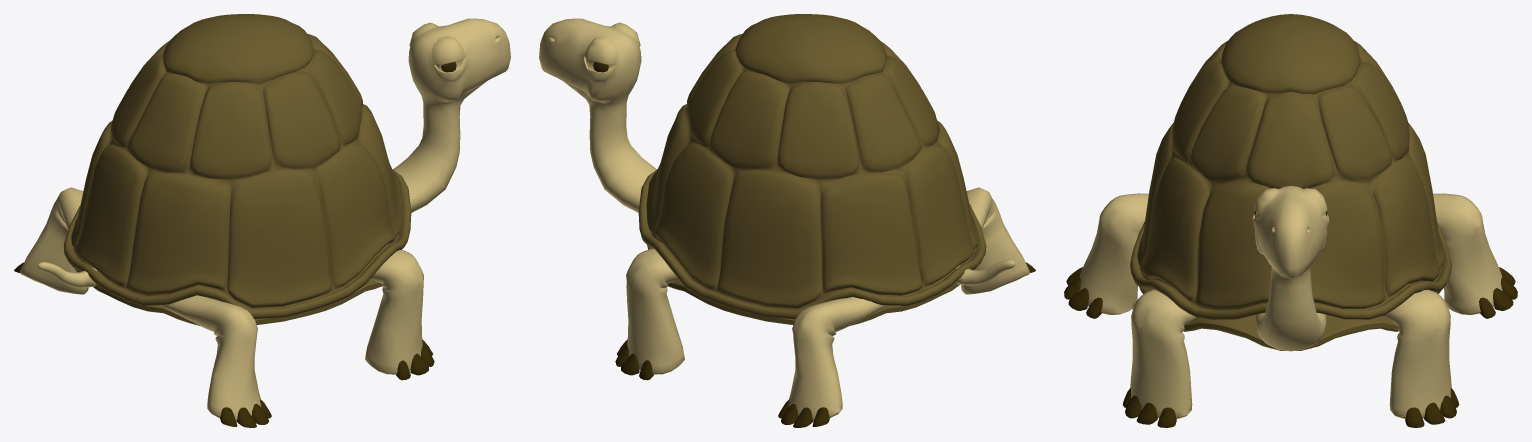
Rendered from tortuga.obj.
3 renders of one model, left to right at view 1: azimuth 30°, elevation 25°; view 2: azimuth 150°, elevation 25°; view 3: azimuth 270°, elevation 25°, orthographic. The views are drawn at different scales.
Parts seen in each view (by area): view 1: Mesh1 Group1 Model, Mesh4 Group1 Model, Mesh6 Group1 Model, Mesh9 Group1 Model, Mesh7 Group1 Model, Mesh3 Group1 Model, Mesh26 Group1 Model; view 2: Mesh1 Group1 Model, Mesh4 Group1 Model, Mesh7 Group1 Model, Mesh8 Group1 Model, Mesh6 Group1 Model, Mesh3 Group1 Model, Mesh26 Group1 Model; view 3: Mesh1 Group1 Model, Mesh4 Group1 Model, Mesh8 Group1 Model, Mesh9 Group1 Model, Mesh6 Group1 Model, Mesh7 Group1 Model, Mesh3 Group1 Model.
Part boxes in pixels (<box>): Mesh1 Group1 Model: <box>63,14,411,319</box>; Mesh4 Group1 Model: <box>393,18,510,212</box>; Mesh6 Group1 Model: <box>160,295,260,421</box>; Mesh9 Group1 Model: <box>365,249,423,374</box>; Mesh7 Group1 Model: <box>20,187,88,294</box>; Mesh3 Group1 Model: <box>75,249,401,325</box>; Mesh26 Group1 Model: <box>37,262,96,287</box>; Mesh1 Group1 Model: <box>638,14,986,319</box>; Mesh4 Group1 Model: <box>539,18,656,212</box>; Mesh7 Group1 Model: <box>789,297,888,421</box>; Mesh8 Group1 Model: <box>626,248,684,374</box>; Mesh6 Group1 Model: <box>961,187,1029,294</box>; Mesh3 Group1 Model: <box>647,245,974,325</box>; Mesh26 Group1 Model: <box>956,259,1015,285</box>; Mesh1 Group1 Model: <box>1130,14,1451,319</box>; Mesh4 Group1 Model: <box>1252,185,1329,351</box>; Mesh8 Group1 Model: <box>1382,289,1451,418</box>; Mesh9 Group1 Model: <box>1130,289,1195,418</box>; Mesh6 Group1 Model: <box>1079,193,1148,314</box>; Mesh7 Group1 Model: <box>1433,193,1502,314</box>; Mesh3 Group1 Model: <box>1139,287,1440,350</box>.
Bounding box in the file's own units: 1.99 × 1.28 × 1.58.
